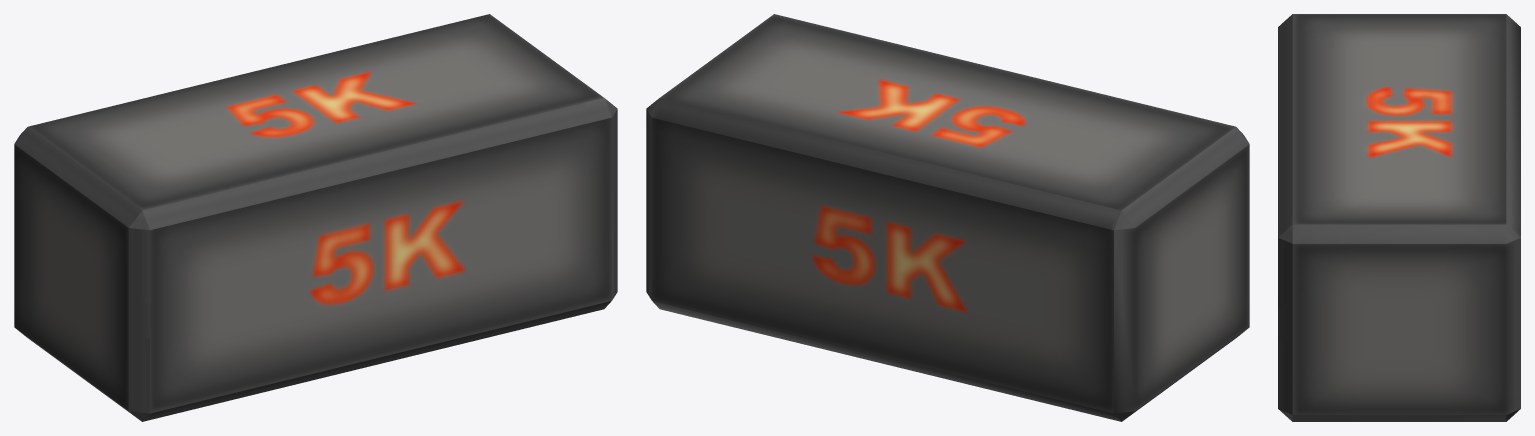
The model's file is Weight_5k.fbx.
3 renders of one model, left to right at view 1: azimuth 30°, elevation 25°; view 2: azimuth 150°, elevation 25°; view 3: azimuth 270°, elevation 25°, orthographic. The views are drawn at different scales.
Visible parts, largest first — view 1: Weight_5K; view 2: Weight_5K; view 3: Weight_5K.
Part boxes in pixels (left/top/right/bottom): Weight_5K: left=14, top=14, right=617, bottom=421; Weight_5K: left=646, top=14, right=1249, bottom=421; Weight_5K: left=1278, top=14, right=1520, bottom=421.
Size of the model in its own units: 97.47 by 40.28 by 44.91.
Materials: 1 (1 with a texture image).
